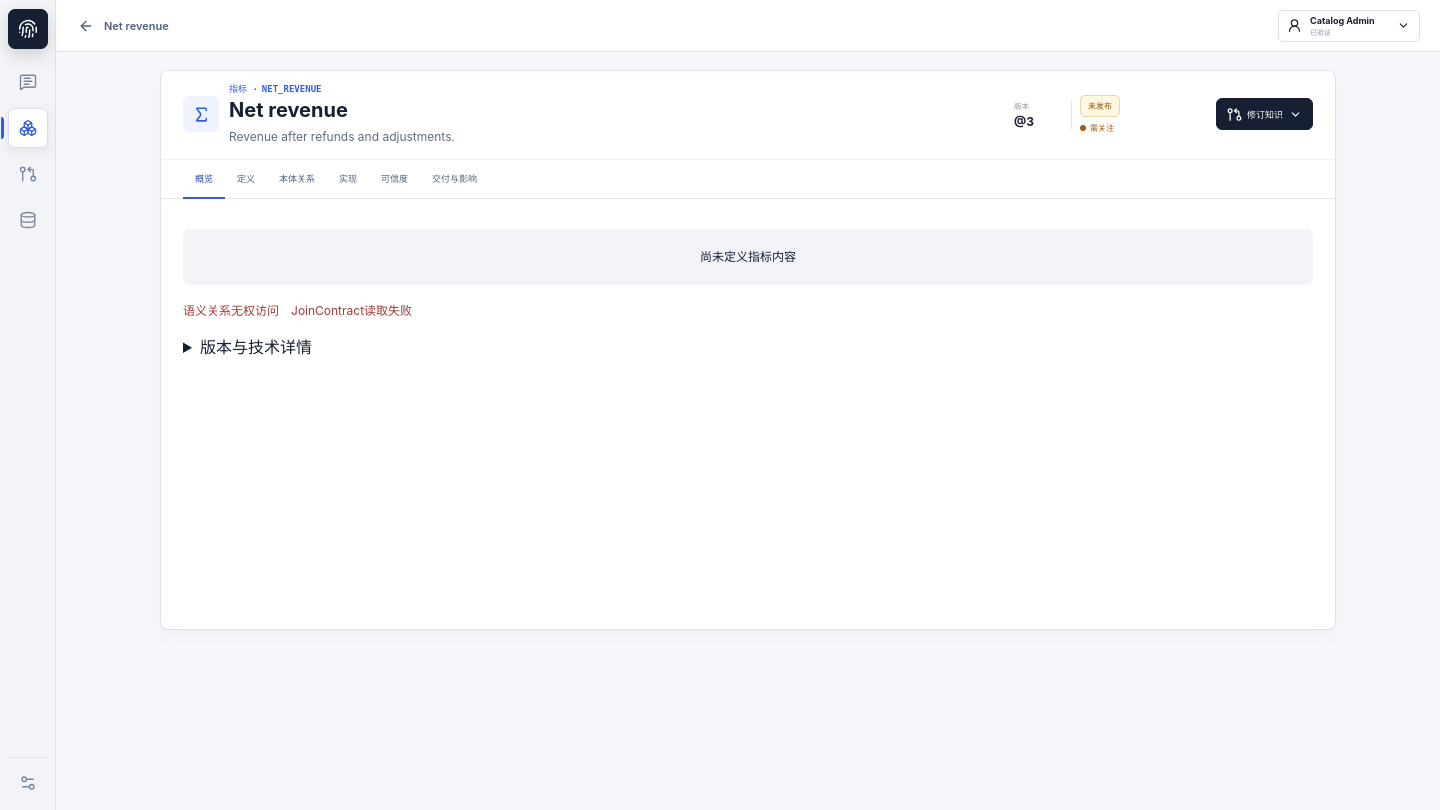
production catalog › fetches an exact asset deep link even when the target is not on the first catalog page
The image size is (1440, 810).
Check: the heading "Net revenue" is shown, box 229,98 -> 348,122
What coordinates should you click on to do the following:
click the button named "返回知识目录"
I would click on:
 (85, 26)
Its box is 71,12 -> 99,40.
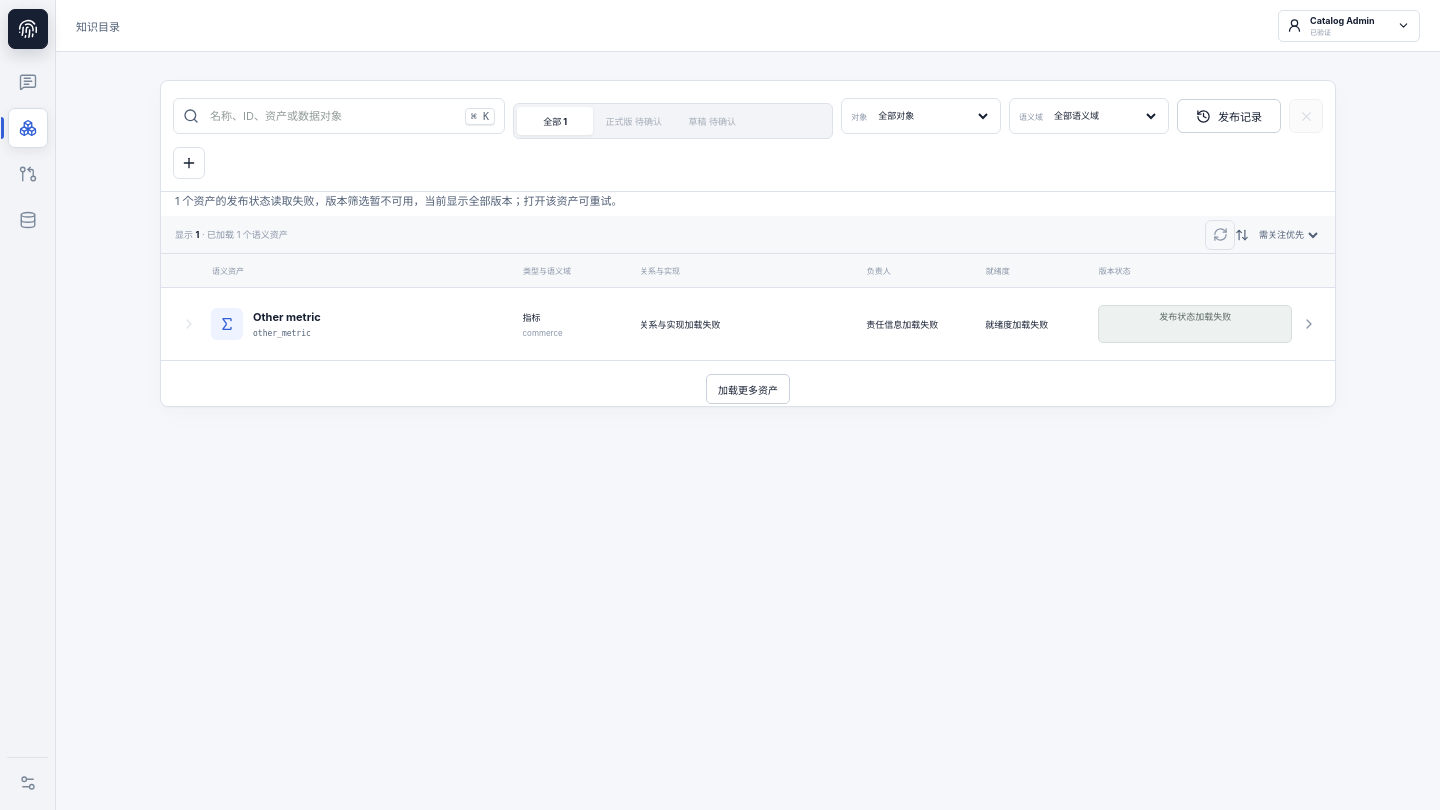
Check: the button with aria-label "打开语义资产 Other metric" is shown, box 211,288 -> 1321,360
